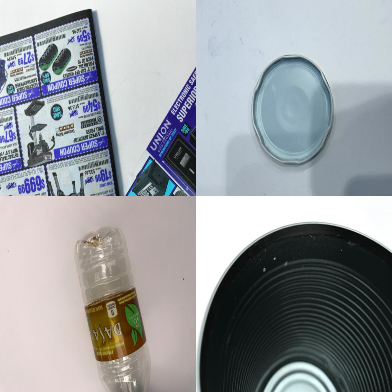metal: (197, 223, 391, 390), (251, 55, 334, 166)
paper: (1, 9, 196, 195)
plastic: (73, 227, 151, 392)
